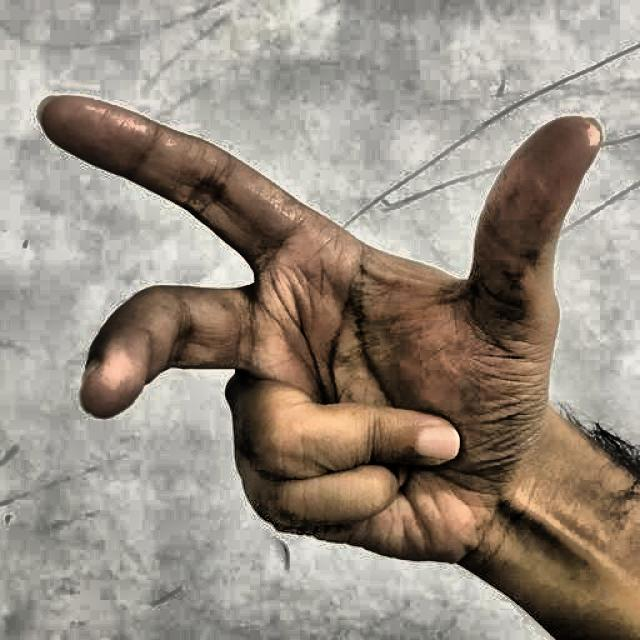Da: (22, 36, 612, 604)
